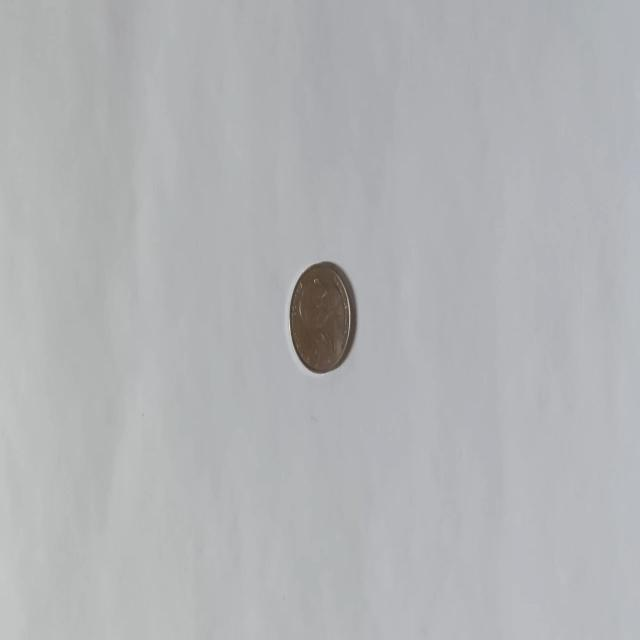seribu rupiah koin: (288, 258, 352, 374)
